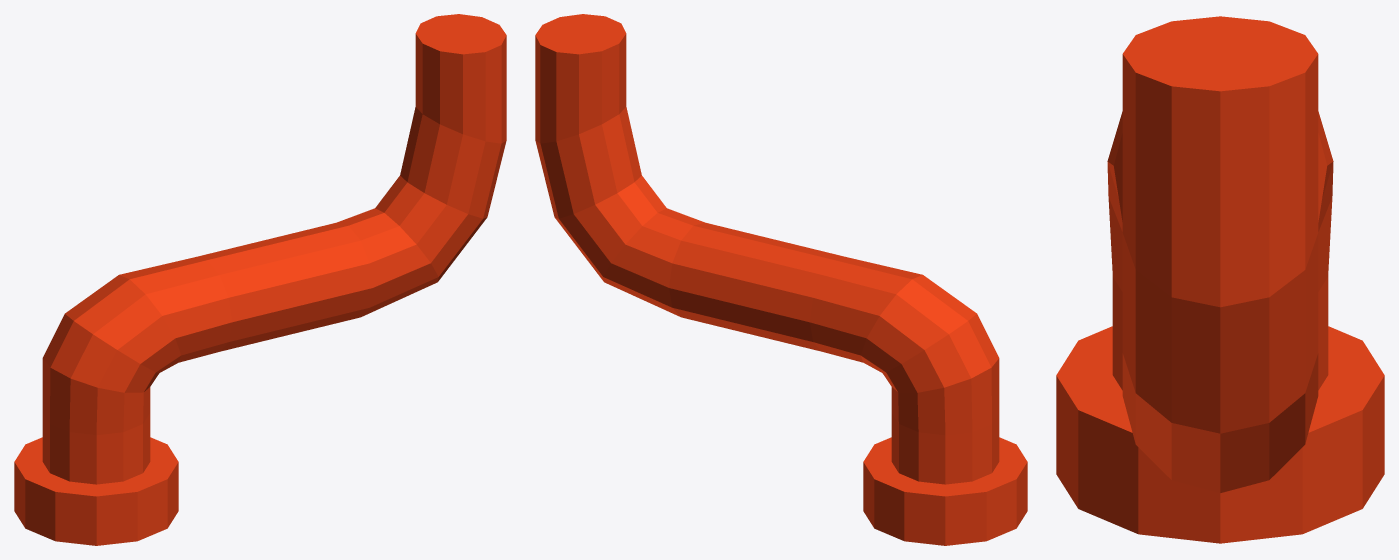
The model's file is BigCable.fbx.
3 renders of one model, left to right at view 1: azimuth 30°, elevation 25°; view 2: azimuth 150°, elevation 25°; view 3: azimuth 270°, elevation 25°, orthographic. The views are drawn at different scales.
Parts seen in each view (by area): view 1: BigCable; view 2: BigCable; view 3: BigCable.
Part boxes in pixels (x1=…): BigCable: x1=14, y1=14, x2=506, y2=545; BigCable: x1=535, y1=14, x2=1027, y2=545; BigCable: x1=1056, y1=16, x2=1384, y2=543.
Size of the model in its own units: 2.28 by 1.79 by 0.6847.
